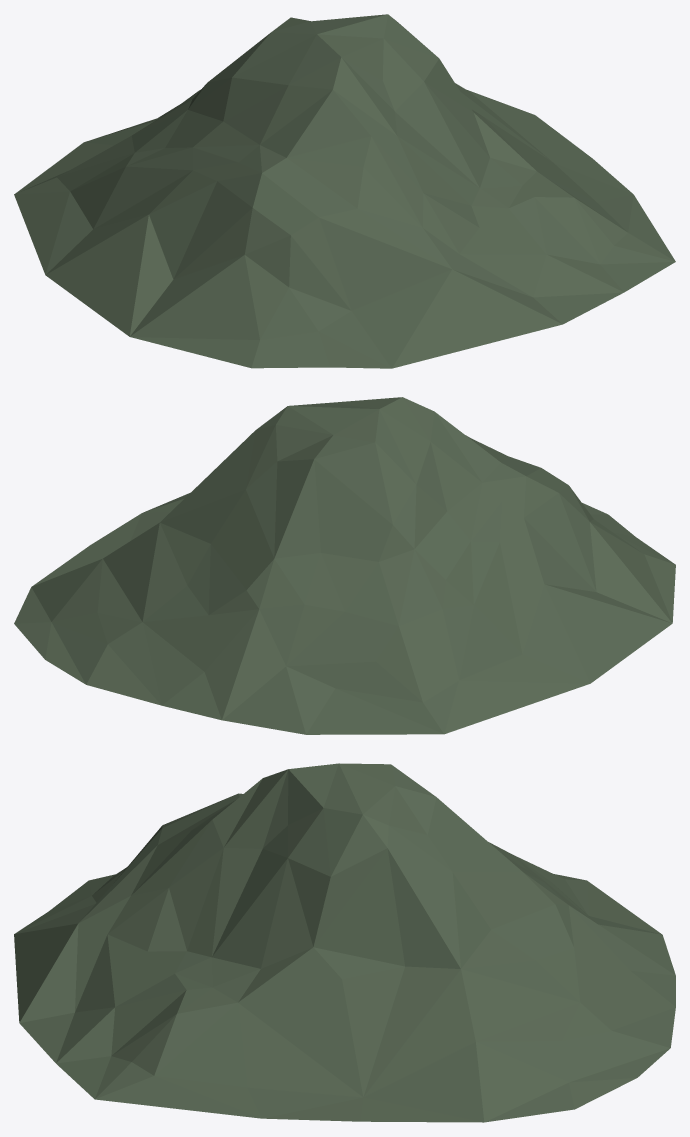
Rendered from SM_Generic_Ground_03.fbx.
The picture shows the model from 3 angles, top to bottom: view 1: azimuth 30°, elevation 25°; view 2: azimuth 150°, elevation 25°; view 3: azimuth 270°, elevation 25°; orthographic projection. The views are drawn at different scales.
Parts seen in each view (by area): view 1: SM_Generic_Ground_03; view 2: SM_Generic_Ground_03; view 3: SM_Generic_Ground_03.
Boxes of the visible parts, x1,y1,x2,y2 form: SM_Generic_Ground_03: (14,14,675,368); SM_Generic_Ground_03: (14,397,675,734); SM_Generic_Ground_03: (14,763,675,1122).
Size of the model in its own units: 1522 by 552 by 1564.
